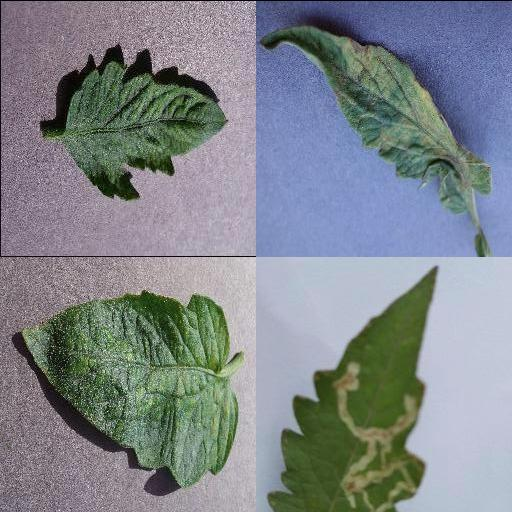Leaf Miner: (267, 264, 441, 512)
Leaf Mold: (256, 26, 493, 212)
Mosaic Virus: (63, 59, 229, 201)
Spider Mites: (18, 294, 238, 487)
